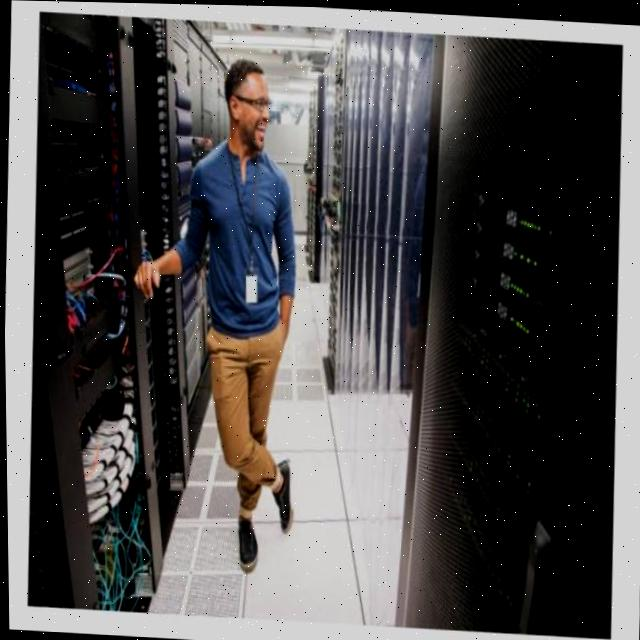id_card: (216, 139, 274, 308)
